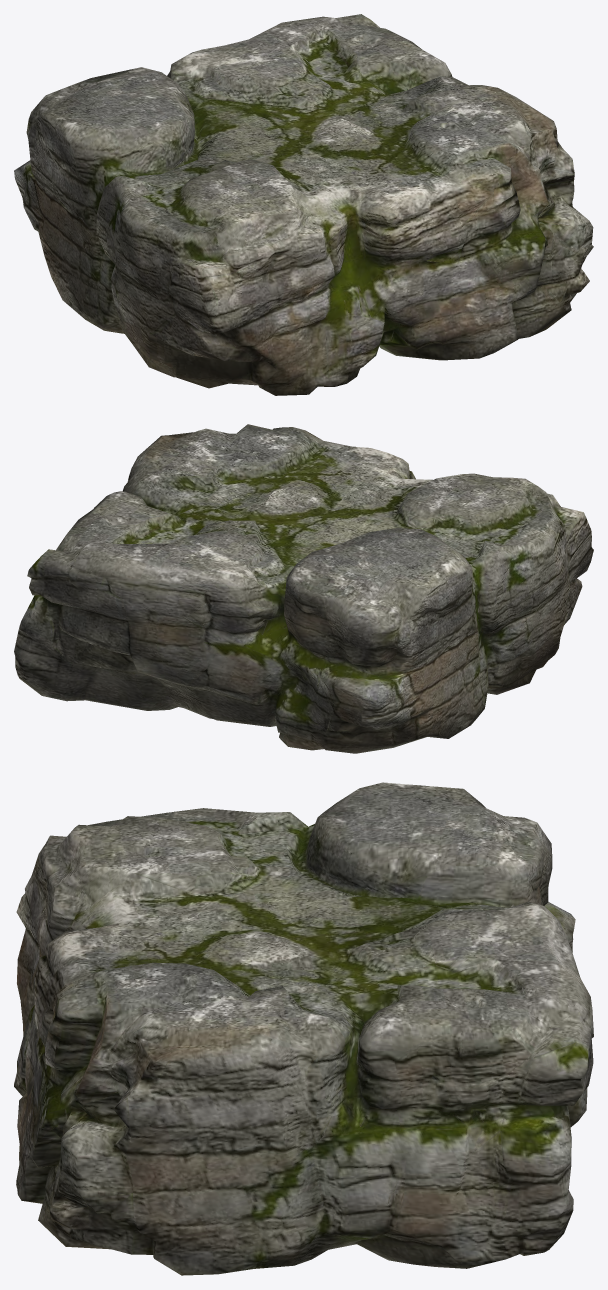
The model's file is wide-rock.glb.
The picture shows the model from 3 angles, top to bottom: view 1: azimuth 30°, elevation 25°; view 2: azimuth 150°, elevation 25°; view 3: azimuth 270°, elevation 25°; orthographic projection. The views are drawn at different scales.
Visible parts, largest first — view 1: Mesh1.0; view 2: Mesh1.0; view 3: Mesh1.0.
Boxes of the visible parts, box(x1,y1,x2,y2) form: Mesh1.0: box(14, 14, 593, 395); Mesh1.0: box(14, 424, 593, 753); Mesh1.0: box(14, 782, 593, 1275).
Bounding box in the file's own units: 1.91 × 0.8524 × 1.75.
Materials: 1 (1 with a texture image).
